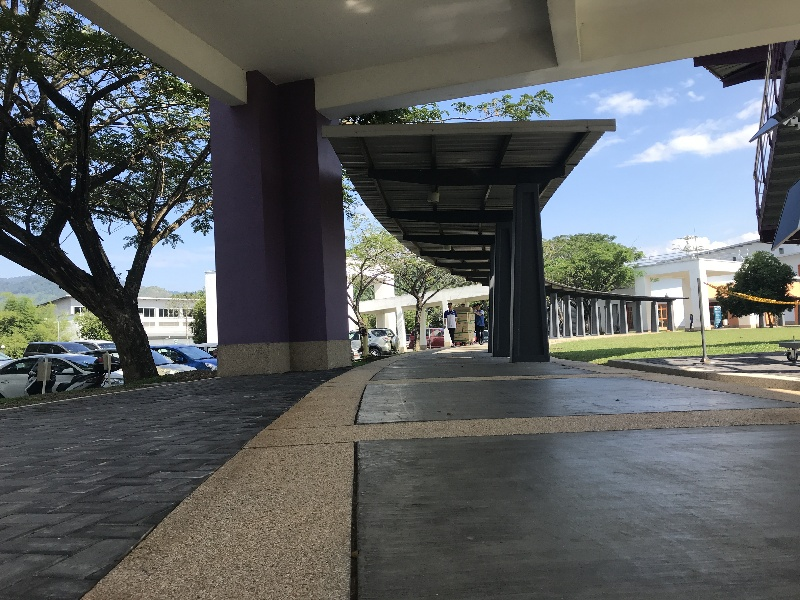Block D Pillar 6: (5, 6, 800, 545)
pillar: (203, 66, 364, 380), (501, 178, 558, 366)
